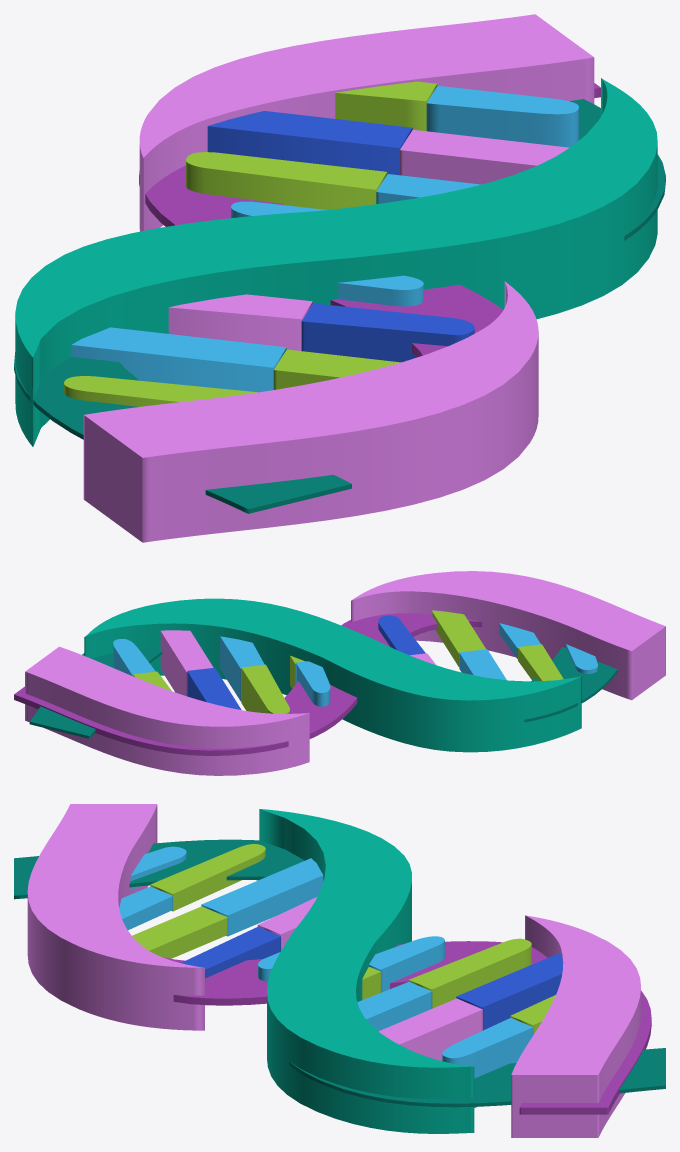
Rendered from emoji_u1f9ec.glb.
The picture shows the model from 3 angles, top to bottom: view 1: azimuth 30°, elevation 25°; view 2: azimuth 150°, elevation 25°; view 3: azimuth 270°, elevation 25°; orthographic projection. The views are drawn at different scales.
Visible parts, largest first — view 1: emoji_u1f9ec; view 2: emoji_u1f9ec; view 3: emoji_u1f9ec.
Boxes of the visible parts, x1,y1,x2,y2 form: emoji_u1f9ec: (14,14,665,542); emoji_u1f9ec: (14,571,665,775); emoji_u1f9ec: (14,804,665,1137).
Bounding box in the file's own units: 0.0339 × 0.0038 × 0.0339.
